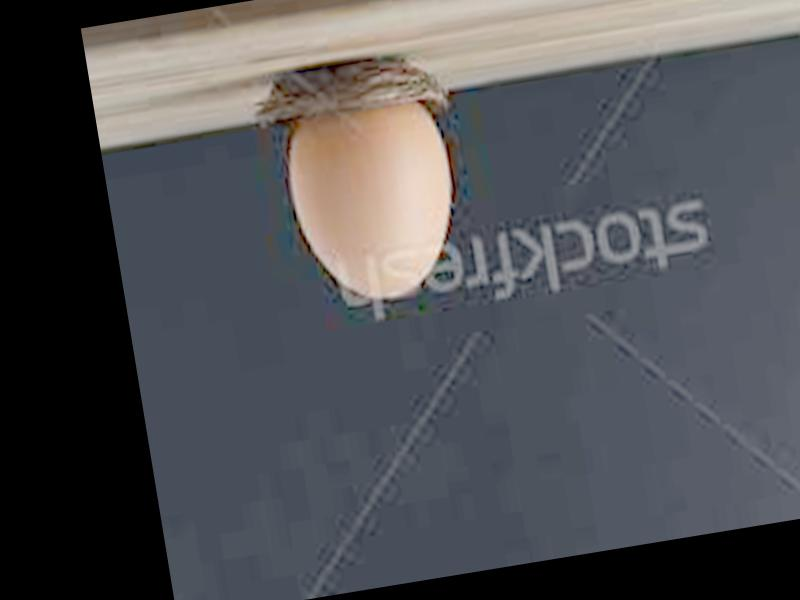Eggs: (277, 93, 464, 309)
